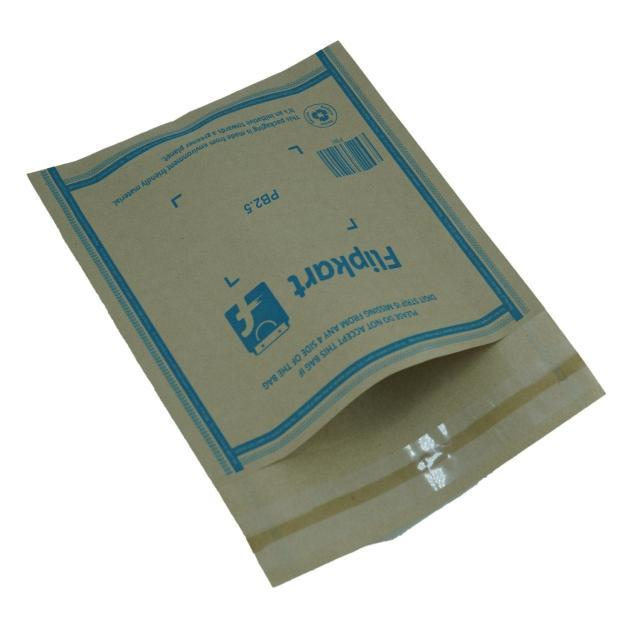cardboxes: (0, 28, 630, 584)
